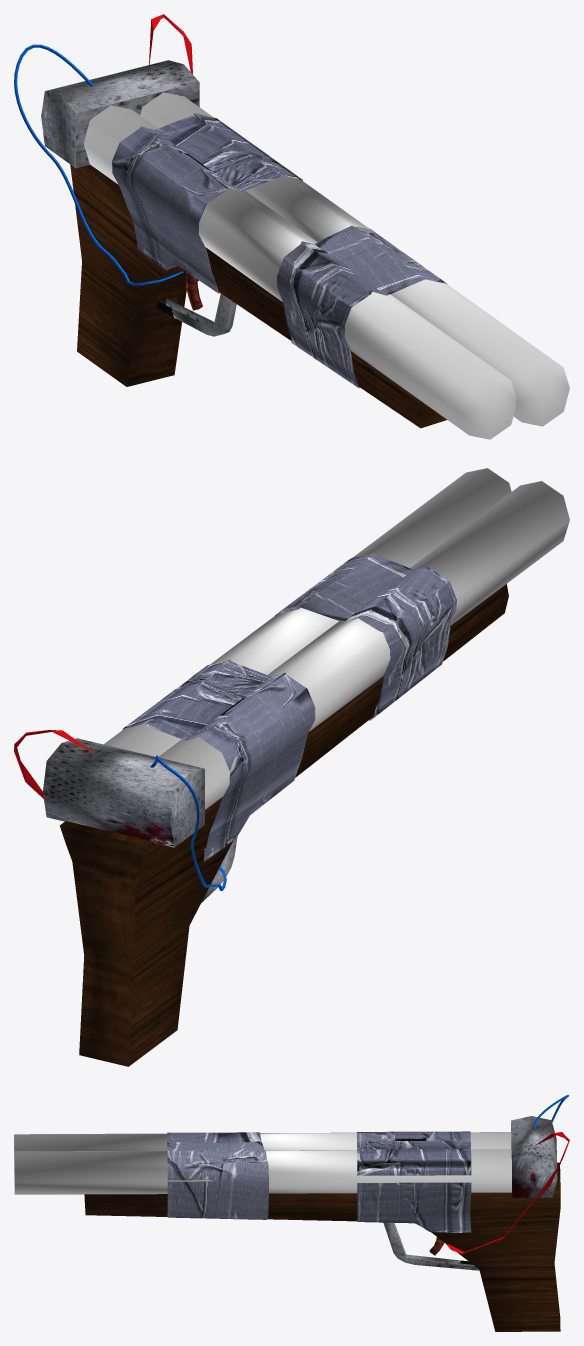
Rendered from testgun1.gltf.
The picture shows the model from 3 angles, top to bottom: view 1: azimuth 30°, elevation 25°; view 2: azimuth 150°, elevation 25°; view 3: azimuth 270°, elevation 25°; orthographic projection. The views are drawn at different scales.
Parts seen in each view (by area): view 1: Cube.025; view 2: Cube.025; view 3: Cube.025.
Boxes of the visible parts, left/top/right/bottom form: Cube.025: left=14, top=14, right=569, bottom=439; Cube.025: left=14, top=468, right=569, bottom=1066; Cube.025: left=14, top=1095, right=569, bottom=1331.
Bounding box in the file's own units: 0.8353 × 1.4 × 3.39.
